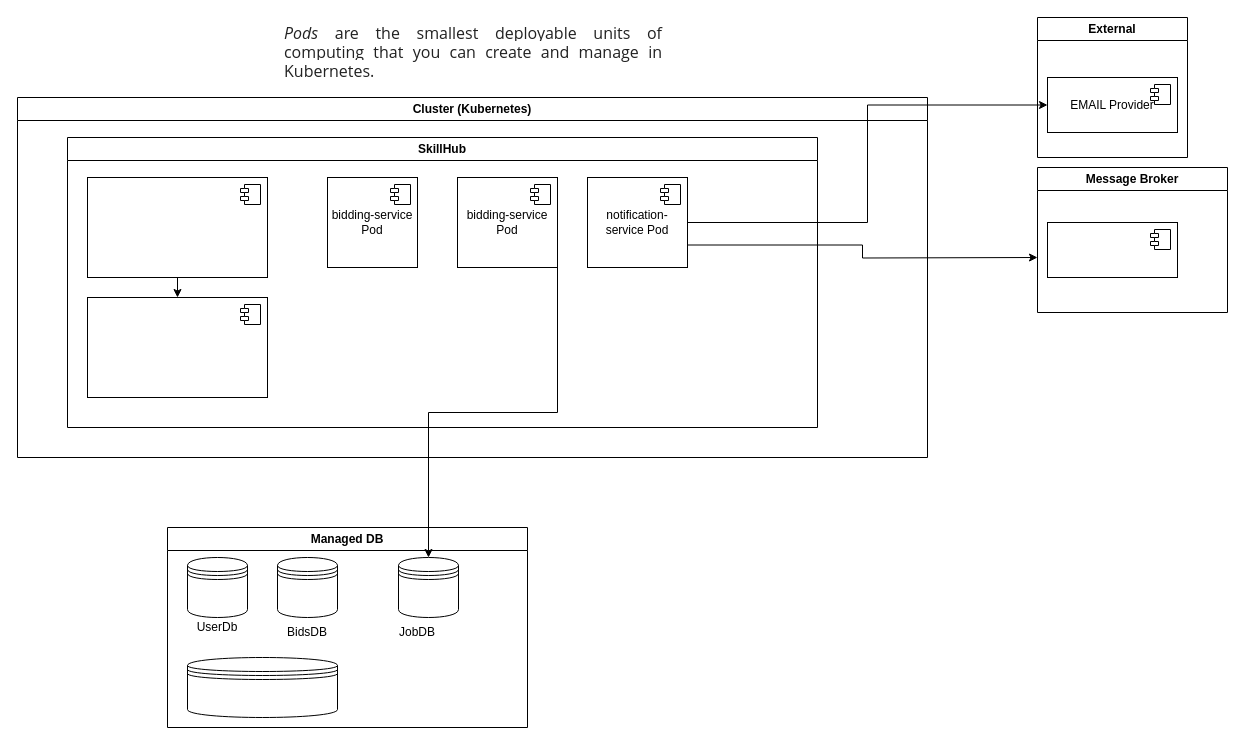
Image size: 1245x745. Some labels were removed from this diagram. Here are the shapes that lost their labels. From the top down, the centre of each, then its label:
the point at 177,227: api-gateway Pod
the point at 1112,250: Kafka / RabbitMQ
the point at 177,347: user-service Pod
the point at 262,687: NotificationsDB
